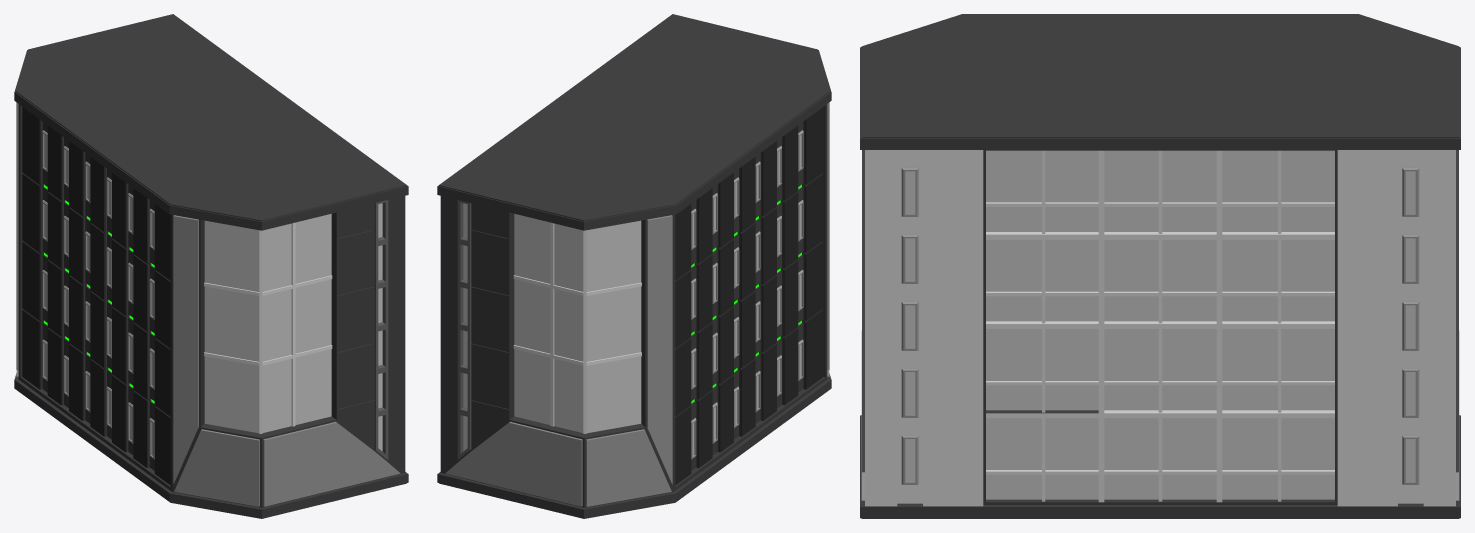
The model's file is Building_07_A_Fake Interior.FBX.
3 views of the same model, side by side, from view 1: azimuth 30°, elevation 25°; view 2: azimuth 150°, elevation 25°; view 3: azimuth 270°, elevation 25° (orthographic). The views are drawn at different scales.
Parts seen in each view (by area): view 1: Building_07_A_Fake Interior_LOD0; view 2: Building_07_A_Fake Interior_LOD0; view 3: Building_07_A_Fake Interior_LOD0.
Boxes of the visible parts, x1,y1,x2,y2 form: Building_07_A_Fake Interior_LOD0: [14, 14, 408, 518]; Building_07_A_Fake Interior_LOD0: [437, 14, 831, 518]; Building_07_A_Fake Interior_LOD0: [860, 14, 1460, 518].
Size of what is drawn, in the model's own units: 597 by 856 by 1220.
